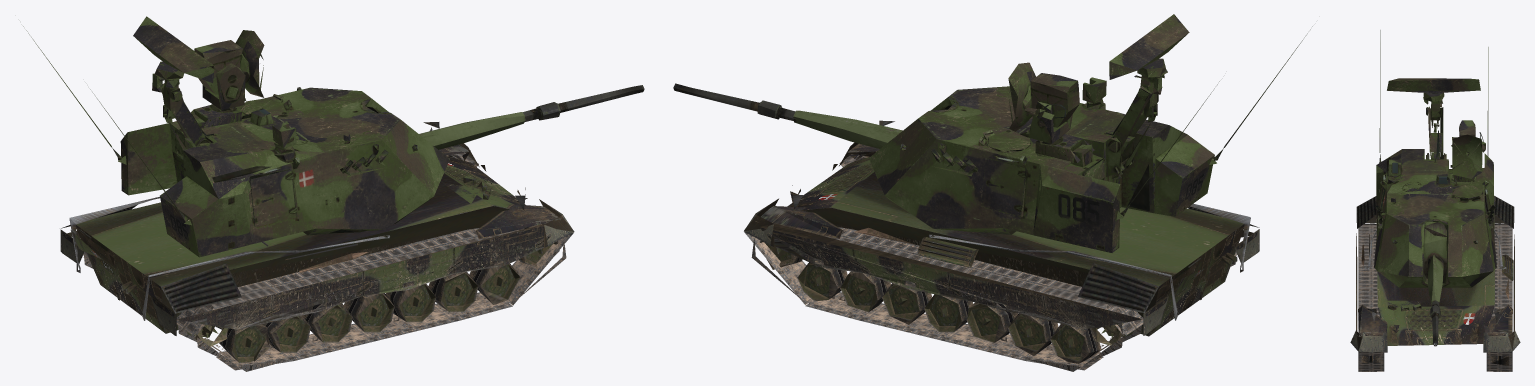
Rendered from Otomatic_DK_LOW.fbx.
3 views of the same model, side by side, from view 1: azimuth 30°, elevation 25°; view 2: azimuth 150°, elevation 25°; view 3: azimuth 270°, elevation 25° (orthographic). The views are drawn at different scales.
Visible parts, largest first — view 1: tourelle_01, Chassis, chenille_droite_01, radar, axe_canon_01, roue_d7, roue_d4, roue_d6, roue_d12, roue_d2, roue_d9, roue_d10 (+1 smaller); view 2: tourelle_01, Chassis, chenille_gauche_01, radar, axe_canon_01, roue_g12, roue_g9, roue_g10, roue_g4, roue_g2, roue_g6, roue_g7 (+1 smaller); view 3: tourelle_01, Chassis, chenille_droite_01, chenille_gauche_01, axe_canon_01, radar, canon_01, roue_g1.
Boxes of the visible parts, bbox=[...] form: tourelle_01: bbox=[23, 26, 449, 257]; Chassis: bbox=[60, 122, 574, 335]; chenille_droite_01: bbox=[176, 222, 573, 371]; radar: bbox=[133, 16, 214, 82]; axe_canon_01: bbox=[419, 112, 525, 149]; roue_d7: bbox=[344, 293, 394, 332]; roue_d4: bbox=[428, 272, 478, 312]; roue_d6: bbox=[386, 281, 436, 322]; roue_d12: bbox=[219, 324, 269, 362]; roue_d2: bbox=[469, 259, 520, 304]; roue_d9: bbox=[302, 303, 352, 342]; roue_d10: bbox=[262, 315, 310, 352]; tourelle_01: bbox=[869, 26, 1312, 252]; Chassis: bbox=[744, 120, 1259, 336]; chenille_gauche_01: bbox=[744, 227, 1143, 371]; radar: bbox=[1109, 14, 1189, 79]; axe_canon_01: bbox=[793, 110, 902, 148]; roue_g12: bbox=[1050, 324, 1101, 365]; roue_g9: bbox=[966, 302, 1017, 342]; roue_g10: bbox=[1008, 313, 1058, 355]; roue_g4: bbox=[840, 271, 890, 312]; roue_g2: bbox=[797, 258, 847, 301]; roue_g6: bbox=[882, 281, 931, 324]; roue_g7: bbox=[924, 294, 973, 332]; tourelle_01: bbox=[1374, 30, 1496, 287]; Chassis: bbox=[1350, 195, 1520, 352]; chenille_droite_01: bbox=[1358, 223, 1384, 371]; chenille_gauche_01: bbox=[1486, 223, 1512, 371]; axe_canon_01: bbox=[1423, 222, 1447, 305]; radar: bbox=[1387, 78, 1480, 93]; canon_01: bbox=[1430, 300, 1440, 346]; roue_g1: bbox=[1490, 356, 1509, 365].
Size of the model in its own units: 10.15 by 3.63 by 5.19.
6 materials, 6 textured.
